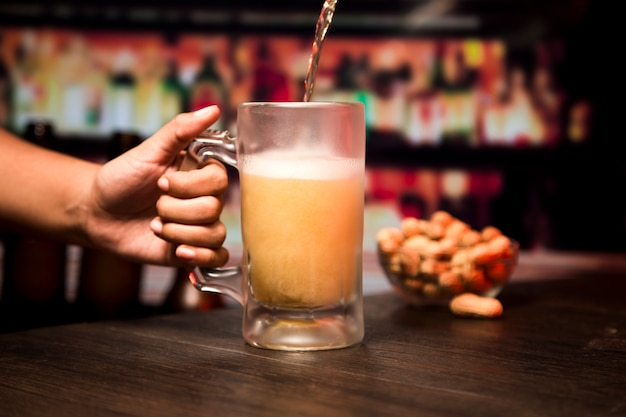alcohol: (184, 102, 365, 350)
